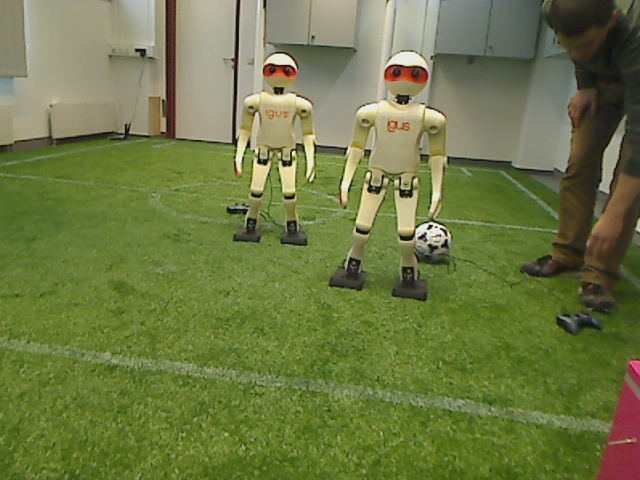ball: (409, 219, 454, 265)
robot: (327, 49, 447, 300), (234, 51, 317, 248)
